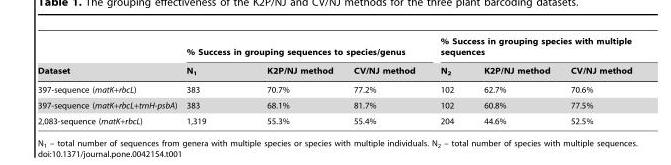table: (37, 36, 631, 125)
table column: (37, 36, 181, 125), (235, 36, 342, 125), (468, 36, 559, 125), (342, 36, 427, 125), (559, 36, 631, 125), (181, 36, 235, 125), (427, 36, 468, 125)
table column header: (37, 36, 631, 79)
table row: (37, 36, 631, 61), (37, 61, 631, 79), (37, 79, 631, 96), (37, 96, 631, 112), (37, 112, 631, 125)
table spanning cell: (37, 36, 181, 79), (181, 36, 427, 61), (427, 36, 631, 61)
